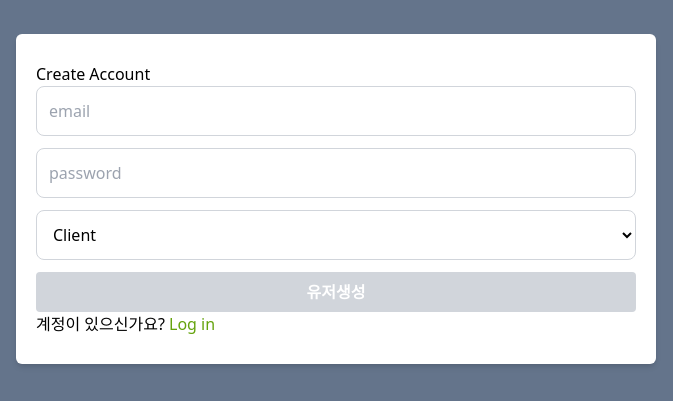
Test: CreateAccount › 이메일 폼 테스트
The image size is (673, 401).
Type "asdf" into the field with placeholder "email".
click(336, 111); type("asdf")  # box [36, 86, 636, 136]
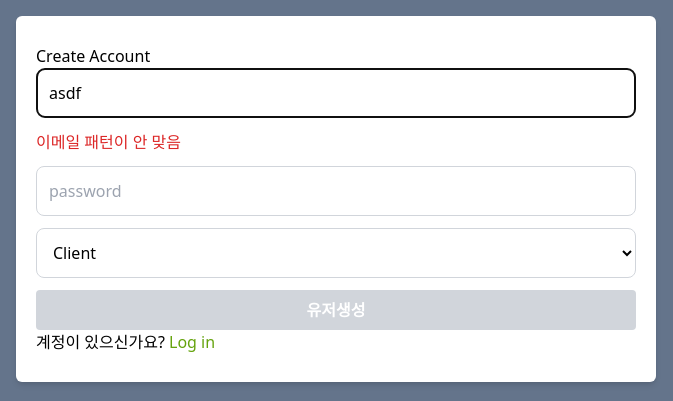
Check: the text "이메일 패턴이 안 맞음" is shown, box [36, 131, 181, 153]
Clear the field with placeholder "email" at (336, 93), box [36, 68, 636, 118]
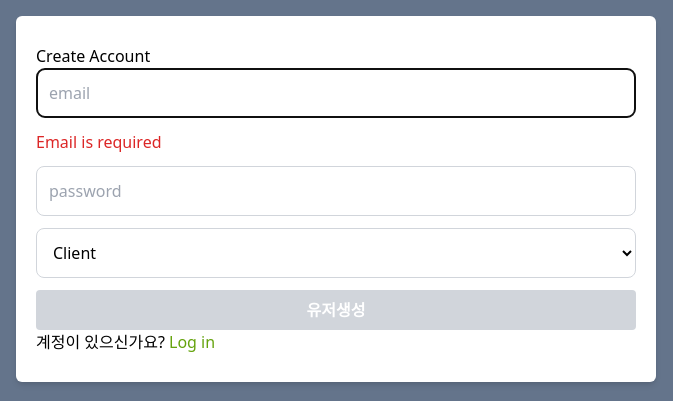
Check: the text "Email is required" is shown, box [36, 131, 162, 153]
